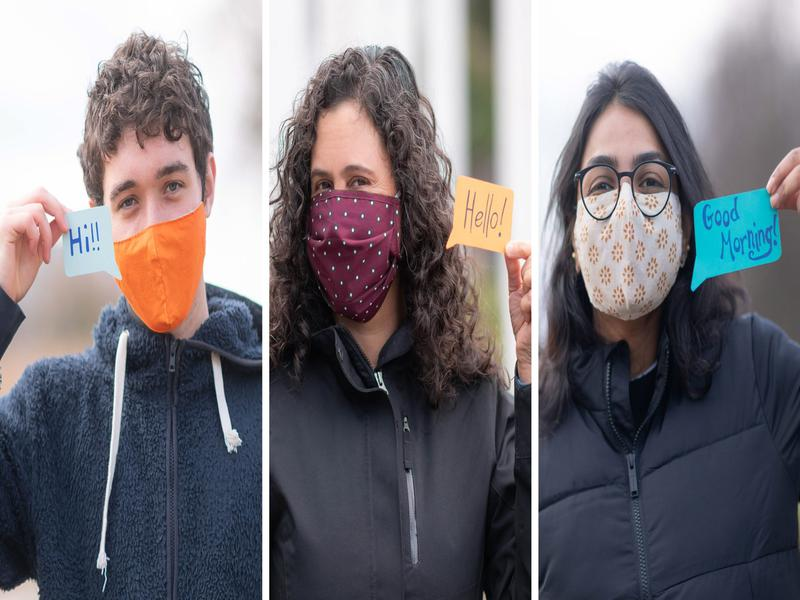mask: (304, 189, 404, 325), (103, 205, 209, 332), (578, 194, 680, 318)
